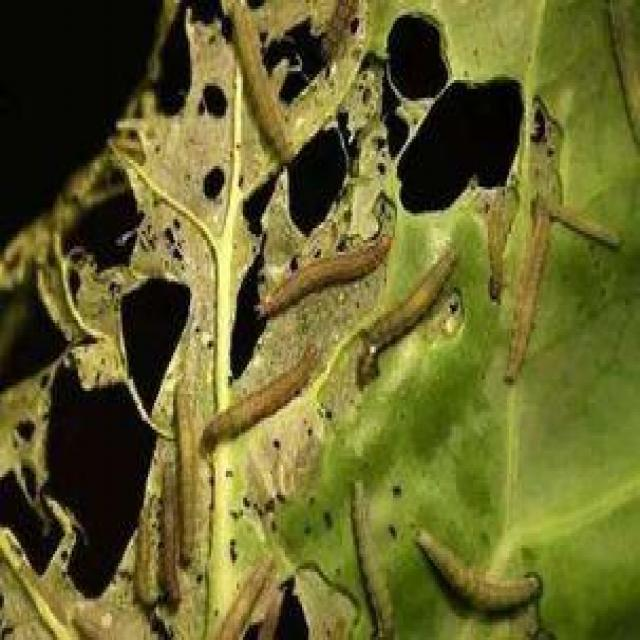BeetArmyWorm-Larva-: (260, 198, 400, 326), (356, 234, 461, 388), (410, 524, 558, 616), (202, 338, 323, 448), (227, 2, 296, 166), (350, 480, 403, 637), (158, 448, 198, 613), (171, 362, 201, 564), (132, 499, 158, 613)
